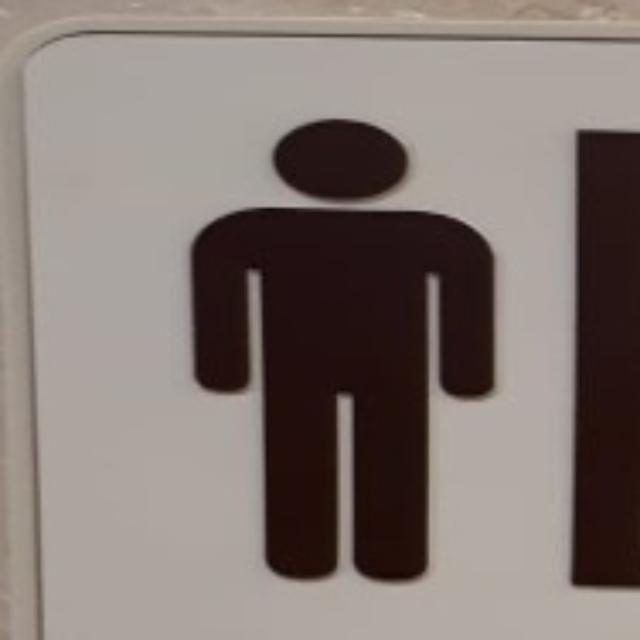mens_restroom: (27, 34, 637, 637), (194, 119, 490, 579)
